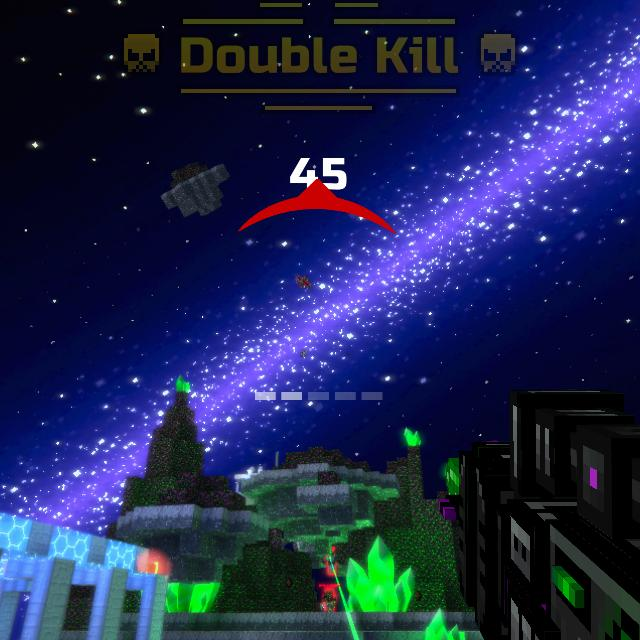Enemy: (321, 590, 336, 612)
